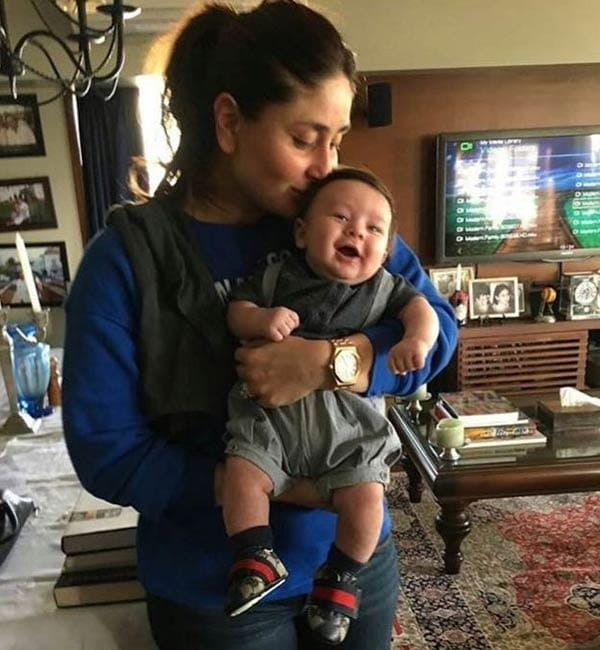face_no_mask: (192, 3, 357, 212), (295, 171, 393, 286)
